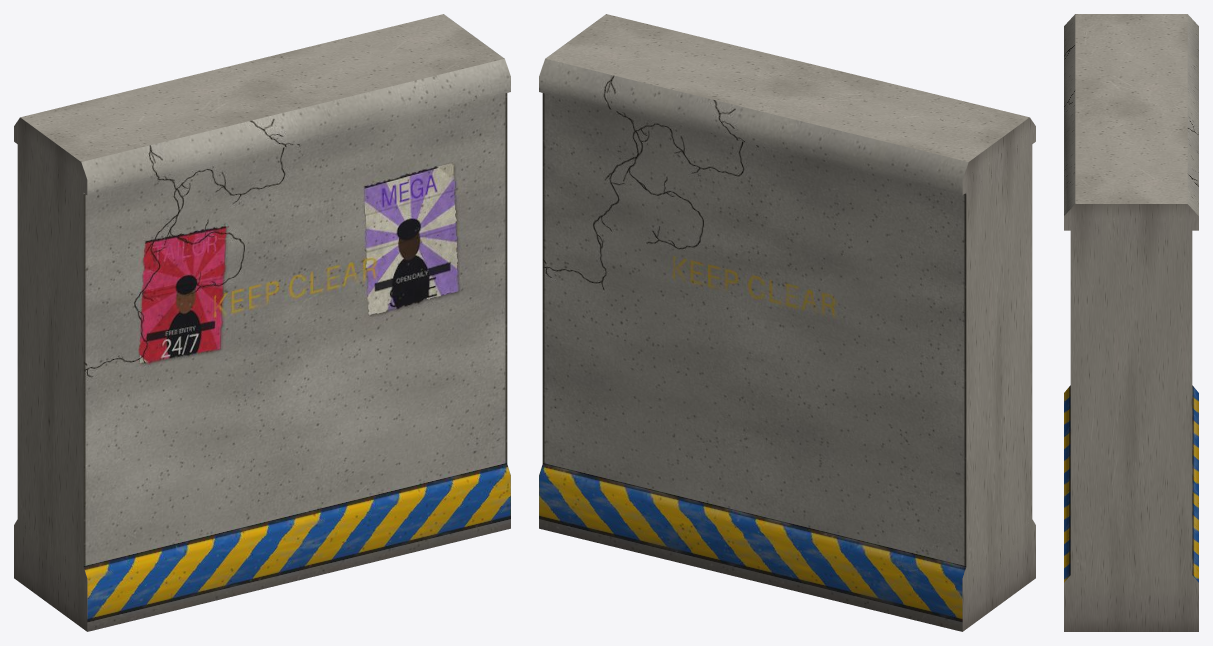
Rendered from env_wall_c.glb.
The picture shows the model from 3 angles, left to right: view 1: azimuth 30°, elevation 25°; view 2: azimuth 150°, elevation 25°; view 3: azimuth 270°, elevation 25°; orthographic projection. The views are drawn at different scales.
Visible parts, largest first — view 1: env_wall_c_body; view 2: env_wall_c_body; view 3: env_wall_c_body.
Boxes of the visible parts, bbox=[...] form: env_wall_c_body: bbox=[14, 14, 510, 631]; env_wall_c_body: bbox=[539, 14, 1035, 631]; env_wall_c_body: bbox=[1064, 14, 1198, 631].
Size of the model in its own units: 1 by 1.05 by 0.3.
1 material, 1 textured.
